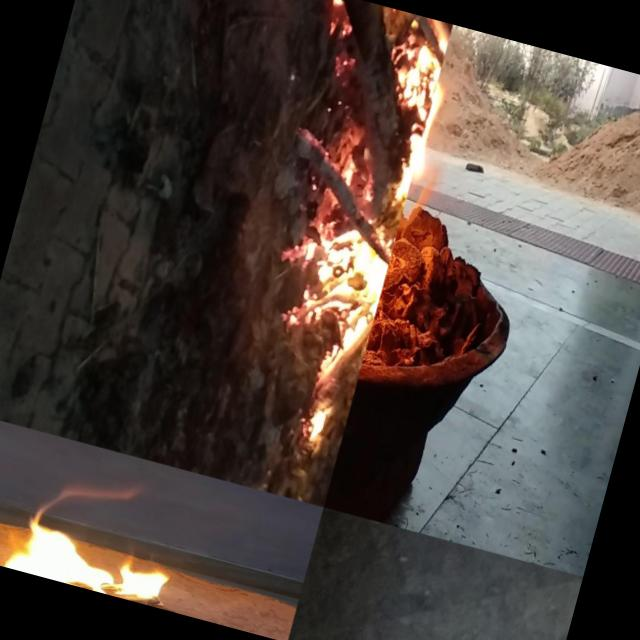fire: (210, 144, 412, 507), (0, 435, 203, 612)
